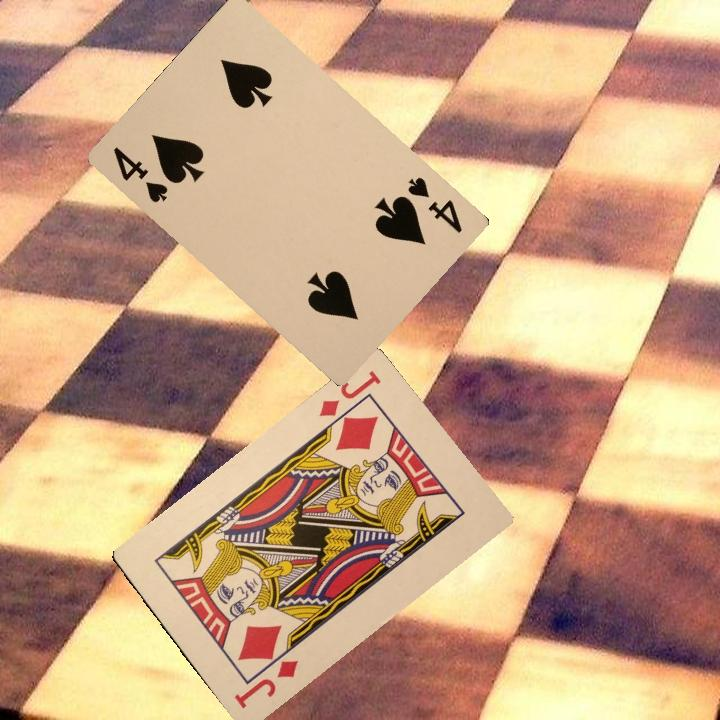4s: (108, 143, 171, 205), (403, 173, 465, 236)
Jd: (230, 656, 301, 711), (315, 366, 384, 420)
